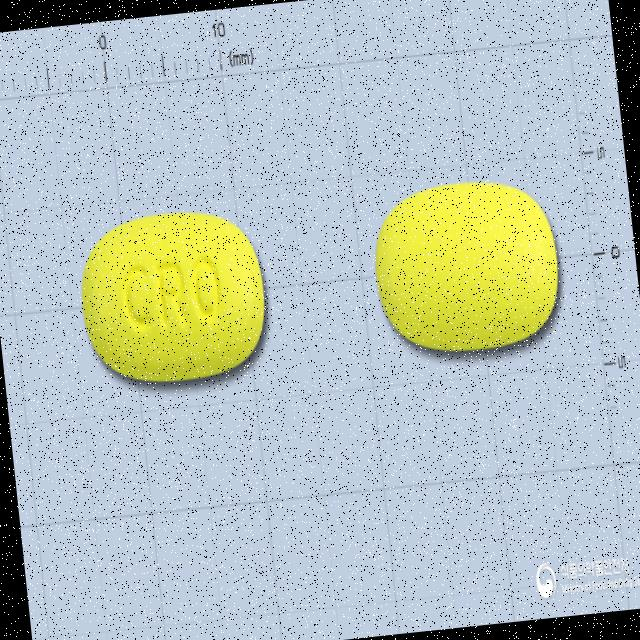Clarosin - 250mg: (364, 170, 569, 367), (73, 200, 274, 392)
